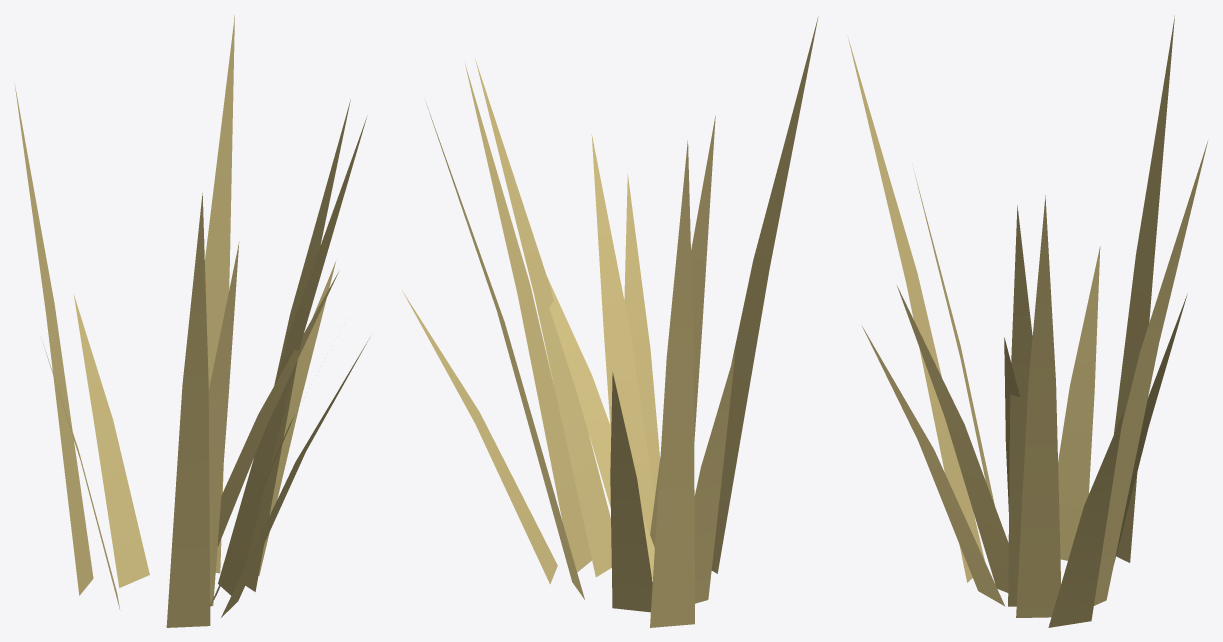
File: wheat_clump.glb
3 views of the same model, side by side, from view 1: azimuth 30°, elevation 25°; view 2: azimuth 150°, elevation 25°; view 3: azimuth 270°, elevation 25° (orthographic). The views are drawn at different scales.
Parts seen in each view (by area): view 1: wheat_clump; view 2: wheat_clump; view 3: wheat_clump.
Boxes of the visible parts, x1,y1,x2,y2 form: wheat_clump: (14,15,369,627); wheat_clump: (402,17,818,627); wheat_clump: (847,15,1208,627).
Bounding box in the file's own units: 0.7278 × 1.12 × 0.7074.
